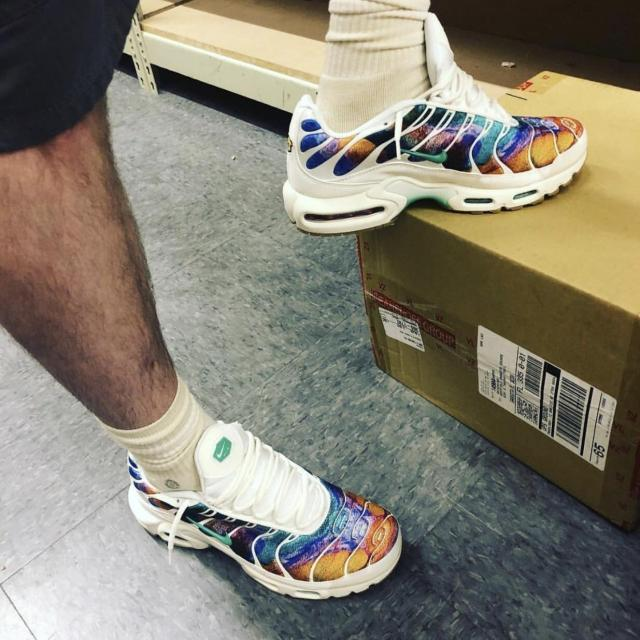shoe: (279, 2, 595, 244), (118, 423, 409, 611)
